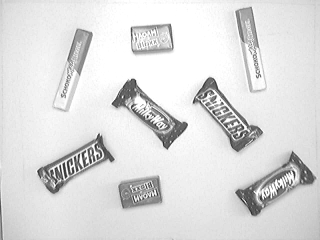Maoam: (117, 174, 166, 211), (129, 22, 177, 57)
Milkyway: (233, 148, 320, 221), (110, 76, 190, 153)
Riegel: (51, 26, 95, 114), (232, 4, 269, 94)
Snickers: (190, 74, 266, 154), (36, 131, 117, 196)
